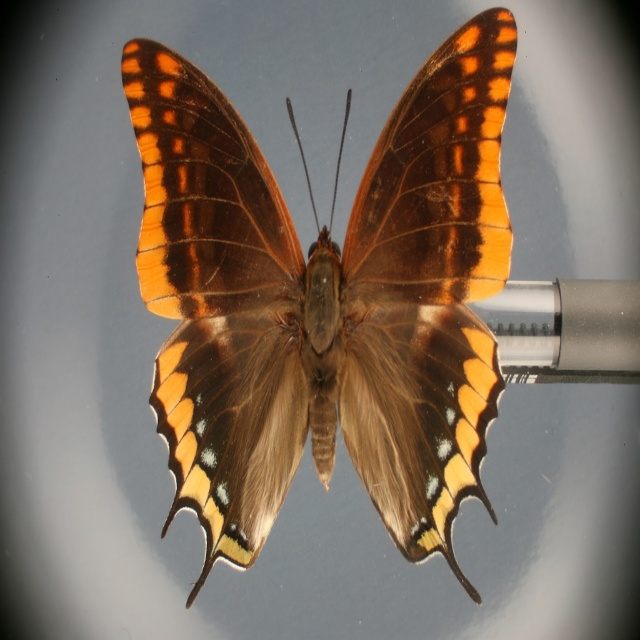Butterfly: (122, 4, 519, 606)
